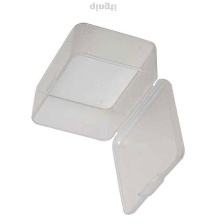plastic_box: (22, 15, 191, 219)
